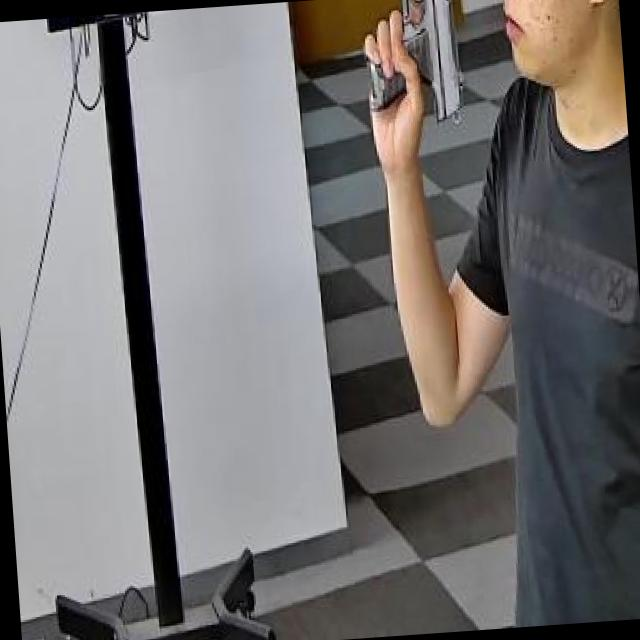Guns: (357, 0, 486, 154)
